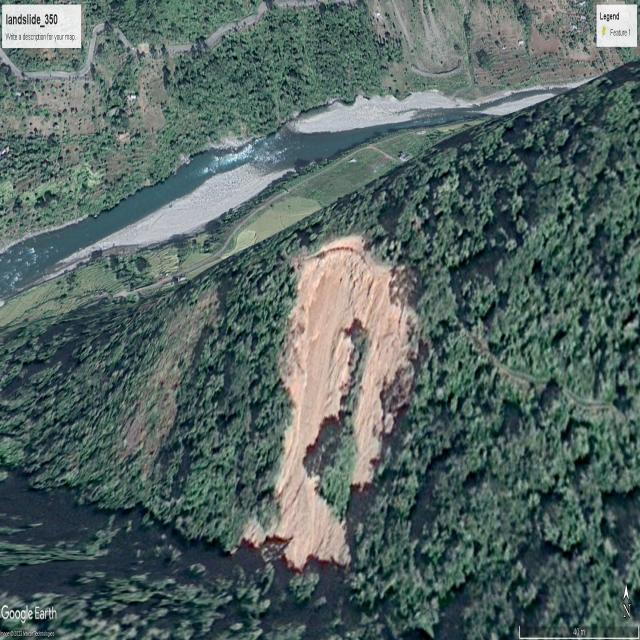Landslide: (258, 246, 422, 533)
